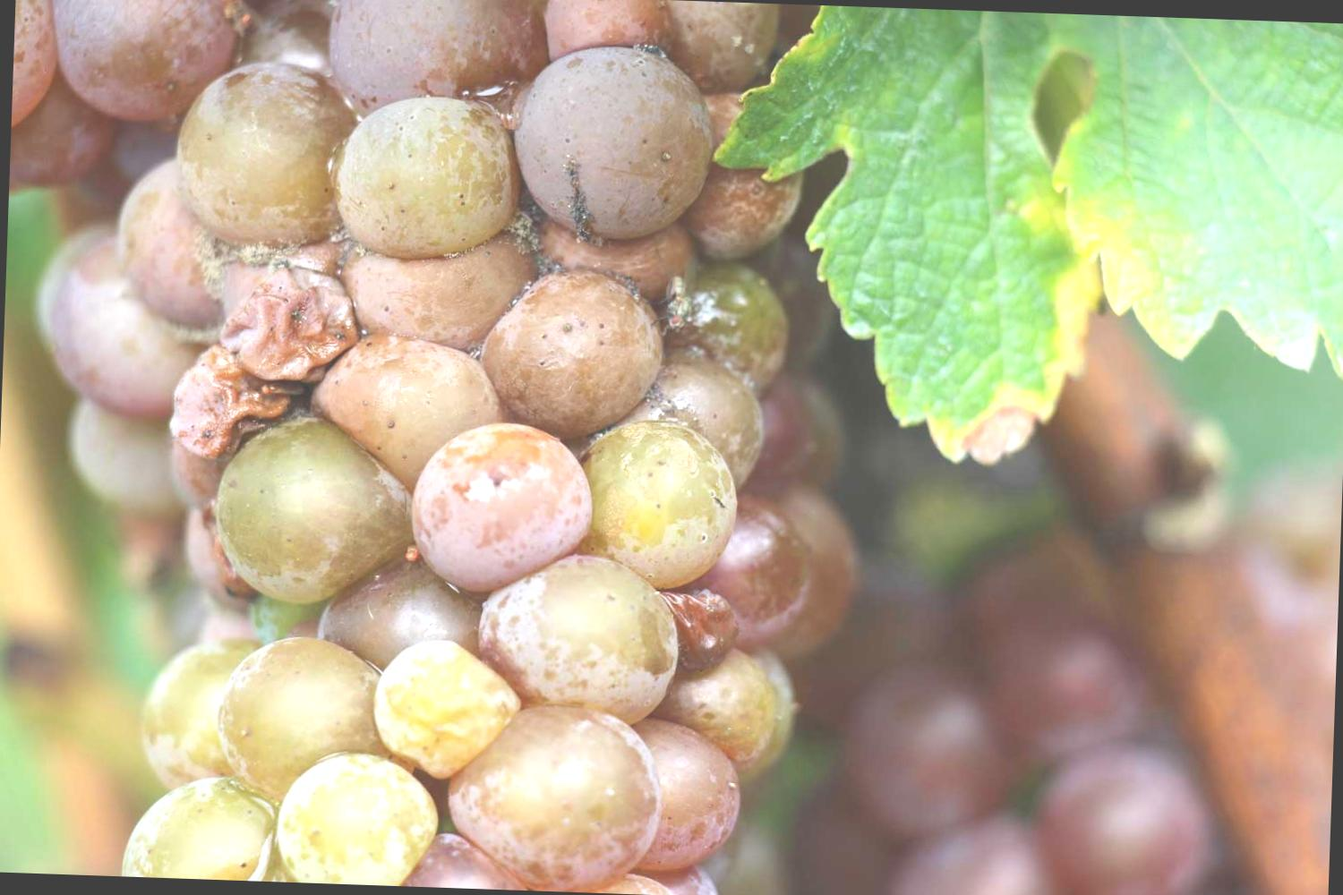Grape Rotten: (0, 0, 877, 895)
